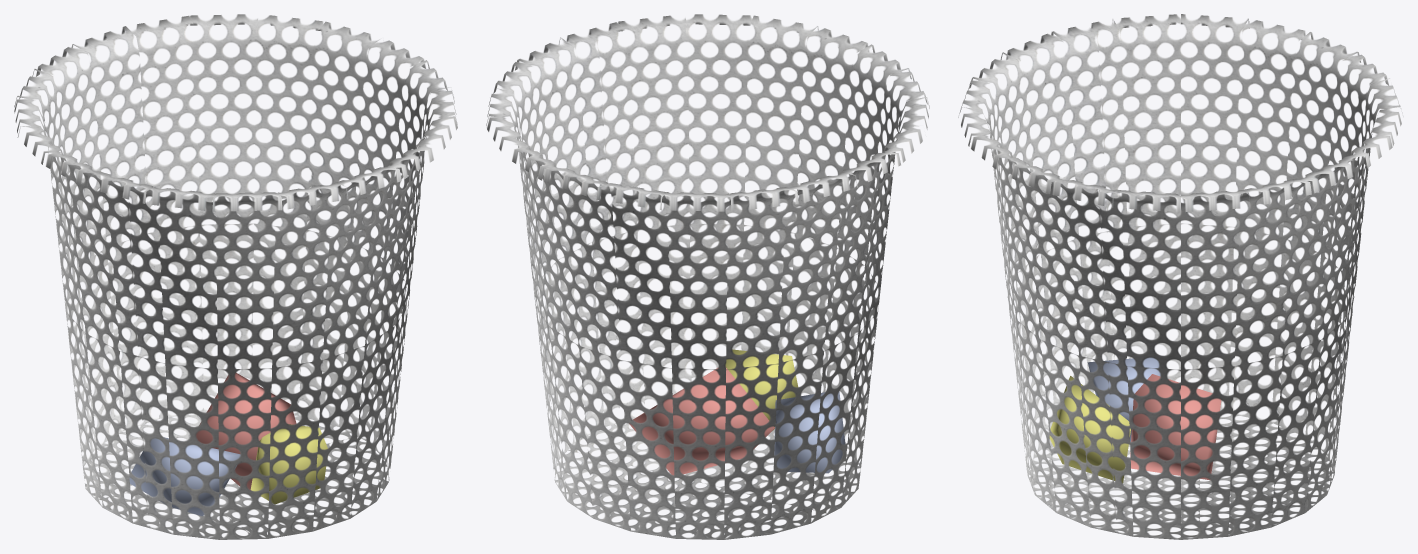
The model's file is dustbin.glb.
The picture shows the model from 3 angles, left to right: view 1: azimuth 30°, elevation 25°; view 2: azimuth 150°, elevation 25°; view 3: azimuth 270°, elevation 25°; orthographic projection.
Parts seen in each view (by area): view 1: dusbin; view 2: dusbin; view 3: dusbin.
Part boxes in pixels (box(x1,y1,x2,y2)): dusbin: box(14, 14, 457, 539); dusbin: box(486, 14, 929, 539); dusbin: box(958, 14, 1403, 539).
Bounding box in the file's own units: 1.16 × 1.06 × 1.16.
Materials: 4 (1 with a texture image).
